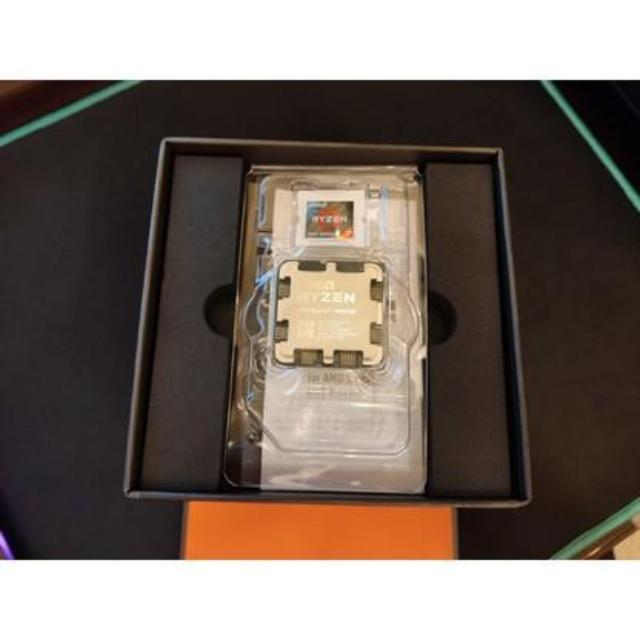CPU: (272, 258, 384, 364)
